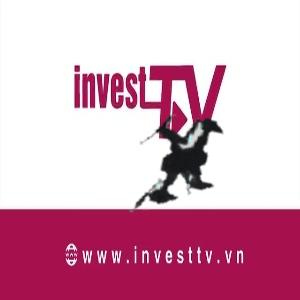drone: (3, 2, 296, 295)
